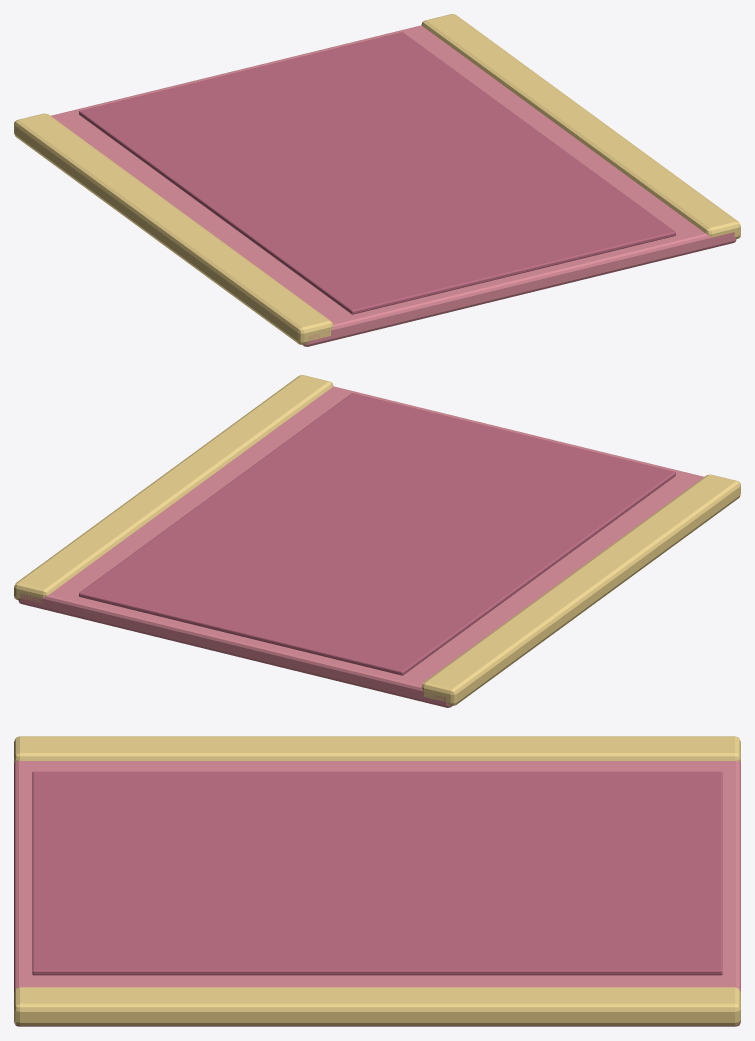
File: opera_carpet_runner.glb
3 renders of one model, top to bottom at view 1: azimuth 30°, elevation 25°; view 2: azimuth 150°, elevation 25°; view 3: azimuth 270°, elevation 25°, orthographic. The views are drawn at different scales.
Parts seen in each view (by area): view 1: opera_carpet_runner.001; view 2: opera_carpet_runner.001; view 3: opera_carpet_runner.001.
Boxes of the visible parts, bbox=[...] form: opera_carpet_runner.001: bbox=[14, 14, 740, 346]; opera_carpet_runner.001: bbox=[14, 375, 740, 707]; opera_carpet_runner.001: bbox=[14, 736, 740, 1026].
Bounding box in the file's own units: 5.32 × 0.23 × 6.
